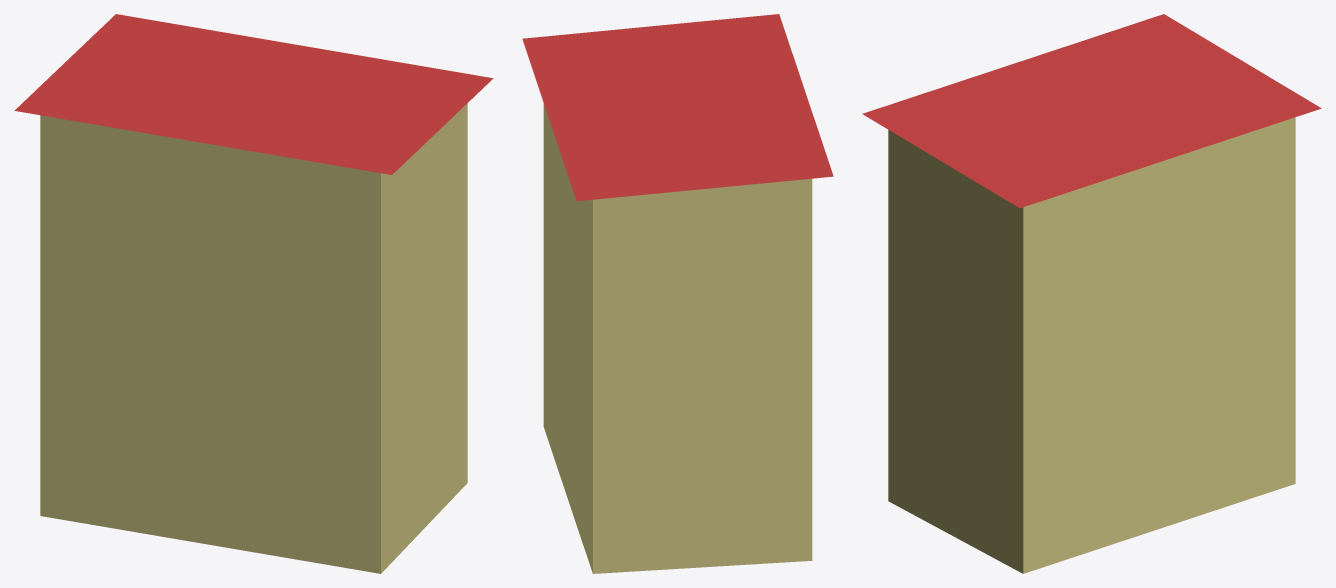
3 renders of one model, left to right at view 1: azimuth 30°, elevation 25°; view 2: azimuth 150°, elevation 25°; view 3: azimuth 270°, elevation 25°, orthographic. The views are drawn at different scales.
Bounding box in the file's own units: 5.81 × 6.1 × 5.65.
